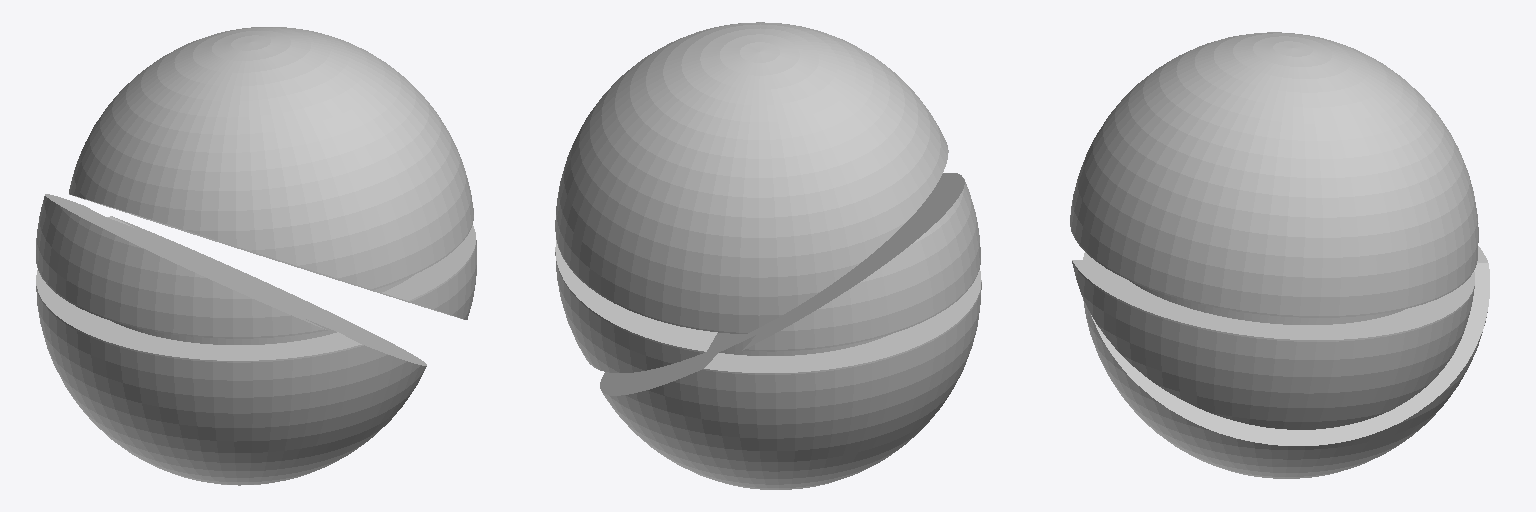
The model's file is Drone166_000003.obj.
3 renders of one model, left to right at view 1: azimuth 30°, elevation 25°; view 2: azimuth 150°, elevation 25°; view 3: azimuth 270°, elevation 25°, orthographic.
Visible parts, largest first — view 1: Sphere.001, Sphere.000_Sphere.002; view 2: Sphere.001, Sphere.000_Sphere.002; view 3: Sphere.001, Sphere.000_Sphere.002.
Boxes of the visible parts, <box> form: Sphere.001: <box>69,27,476,319</box>; Sphere.000_Sphere.002: <box>36,194,426,485</box>; Sphere.001: <box>555,22,948,372</box>; Sphere.000_Sphere.002: <box>600,173,981,489</box>; Sphere.001: <box>1070,32,1478,429</box>; Sphere.000_Sphere.002: <box>1083,223,1489,478</box>.
Bounding box in the file's own units: 2.13 × 2.26 × 2.05.